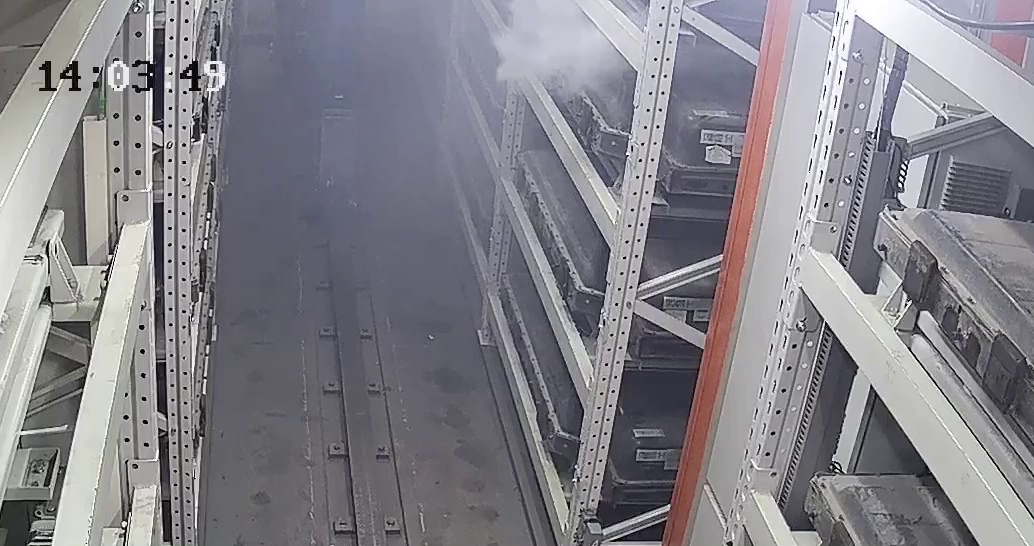smoke: (497, 9, 623, 92)
